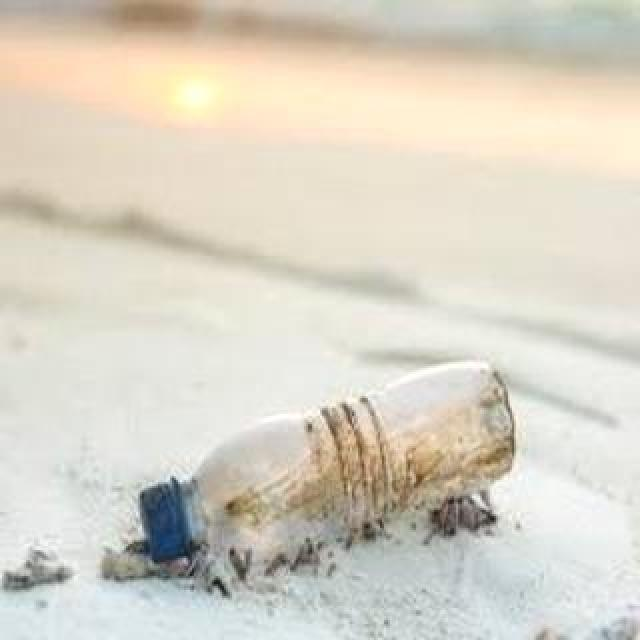Pet_Bottle: (136, 354, 522, 578)
